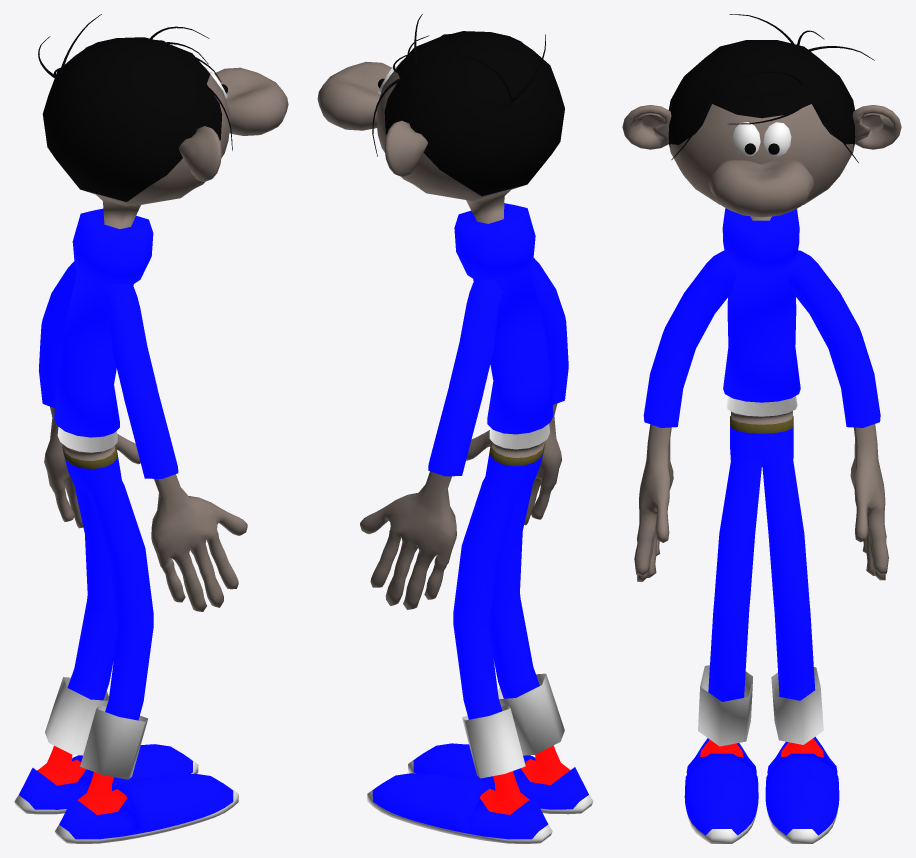
The model's file is spectator_blue_tall.dae.
3 renders of one model, left to right at view 1: azimuth 30°, elevation 25°; view 2: azimuth 150°, elevation 25°; view 3: azimuth 270°, elevation 25°, orthographic.
Visible parts, largest first — view 1: Spectator; view 2: Spectator; view 3: Spectator.
Boxes of the visible parts, left/top/right/bottom form: Spectator: left=14, top=14, right=288, bottom=843; Spectator: left=317, top=14, right=593, bottom=843; Spectator: left=622, top=14, right=901, bottom=843.
Size of the model in its own units: 0.6596 by 0.662 by 2.
